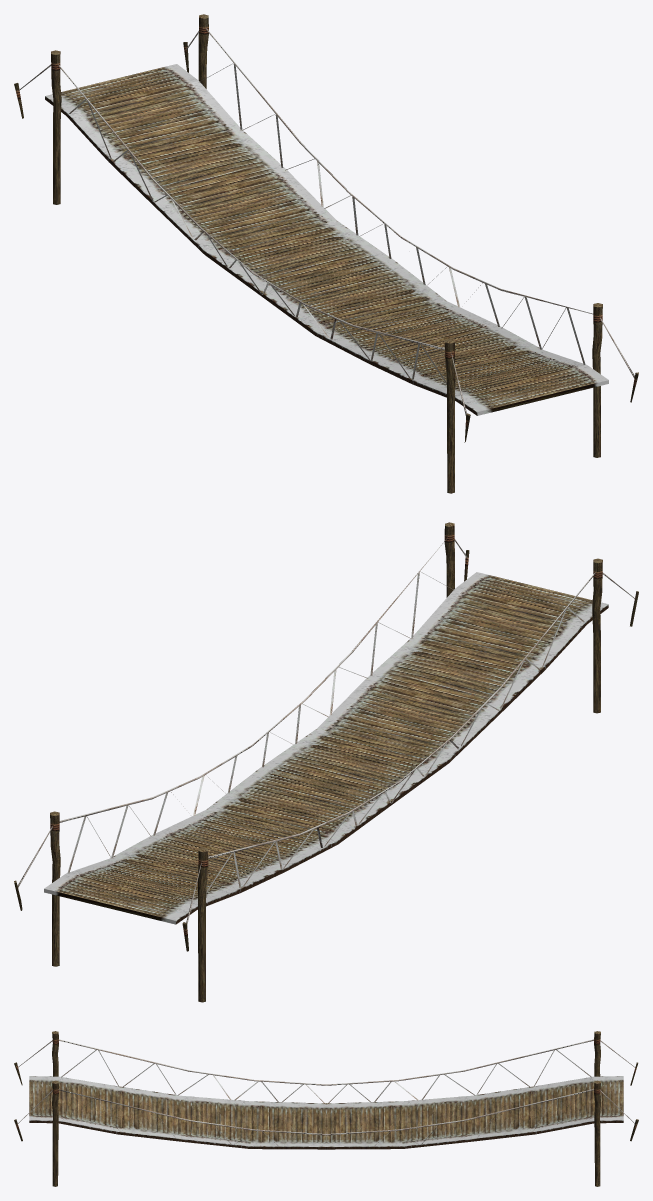
Rendered from general_obj_suspension bridge02_lod_01.fbx.
The picture shows the model from 3 angles, top to bottom: view 1: azimuth 30°, elevation 25°; view 2: azimuth 150°, elevation 25°; view 3: azimuth 270°, elevation 25°; orthographic projection. The views are drawn at different scales.
Parts seen in each view (by area): view 1: general_obj_suspension bridge01; view 2: general_obj_suspension bridge01; view 3: general_obj_suspension bridge01.
Boxes of the visible parts, box(x1,y1,x2,y2) form: general_obj_suspension bridge01: box(14, 14, 638, 493); general_obj_suspension bridge01: box(14, 522, 638, 1002); general_obj_suspension bridge01: box(14, 1031, 638, 1186).
Bounding box in the file's own units: 10.44 × 8.8 × 47.59.
